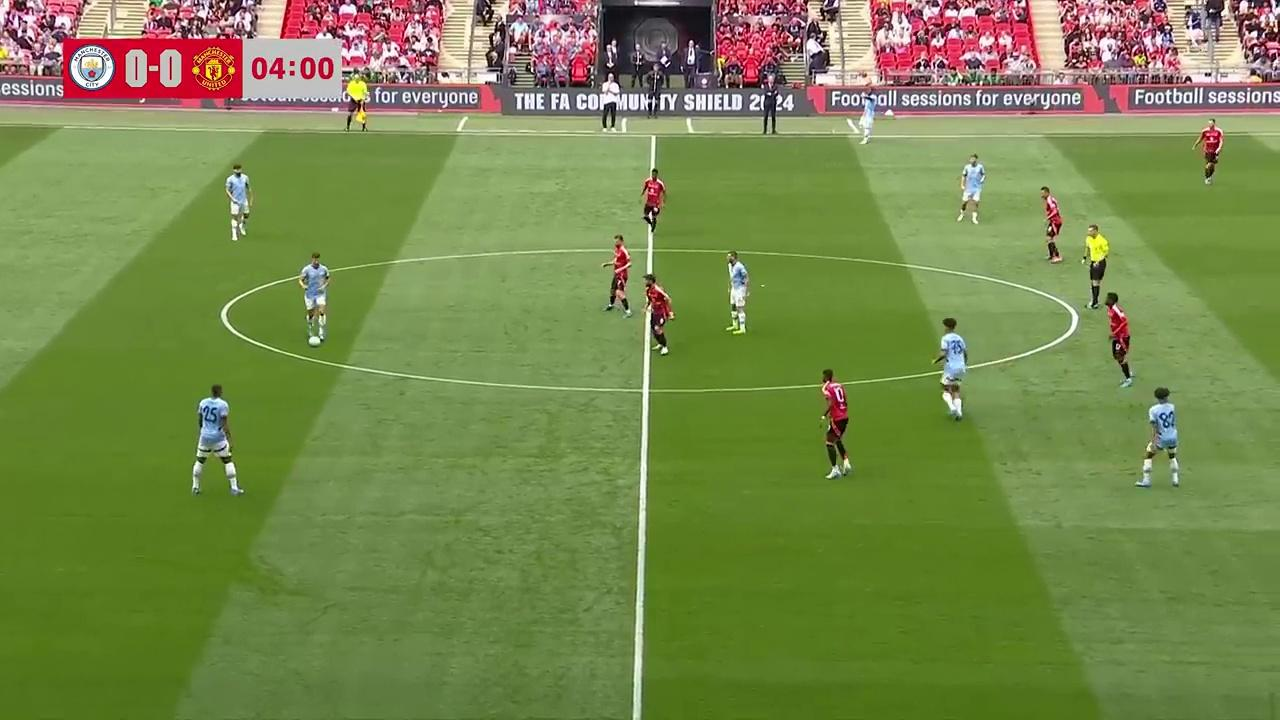ball: (307, 333, 319, 347)
player: (191, 384, 245, 497), (1134, 387, 1181, 489), (932, 318, 968, 418), (819, 369, 851, 480), (298, 251, 330, 345), (601, 233, 631, 316), (1106, 293, 1132, 388), (644, 275, 674, 356), (225, 164, 252, 240), (726, 250, 750, 334), (957, 153, 985, 224), (1041, 186, 1063, 262), (641, 169, 666, 234), (1197, 122, 1222, 185), (853, 100, 873, 142)
referee: (1082, 225, 1108, 311), (346, 70, 369, 132)
